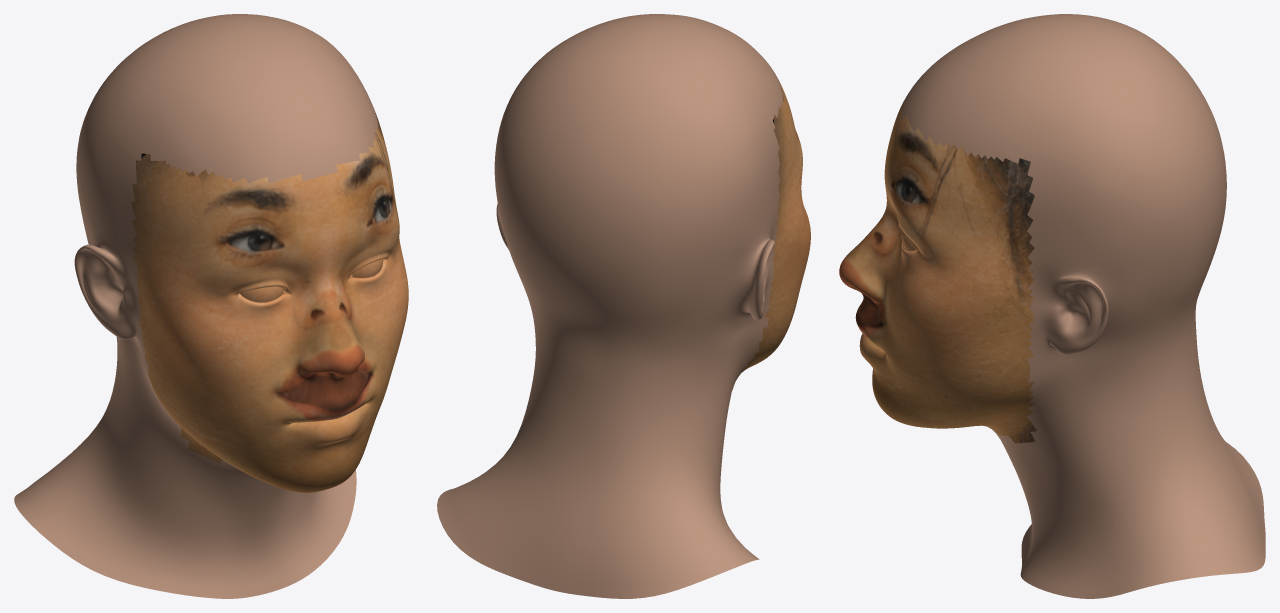
The model's file is storybook_face_head.glb.
The picture shows the model from 3 angles, left to right: view 1: azimuth 30°, elevation 25°; view 2: azimuth 150°, elevation 25°; view 3: azimuth 270°, elevation 25°; orthographic projection. The views are drawn at different scales.
Visible parts, largest first — view 1: FBHead; view 2: FBHead; view 3: FBHead.
Boxes of the visible parts, x1,y1,x2,y2 form: FBHead: (14, 14, 408, 598); FBHead: (437, 14, 810, 598); FBHead: (839, 14, 1265, 598).
Bounding box in the file's own units: 1.74 × 2.86 × 2.07.
2 materials, 1 textured.
